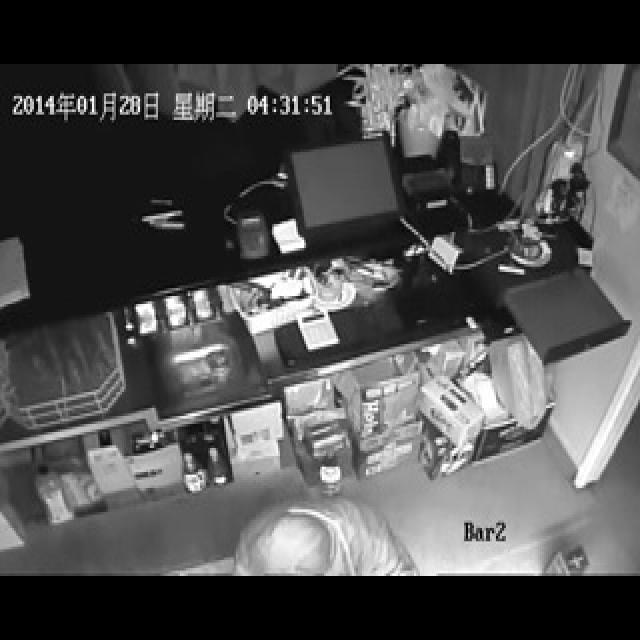thief: (236, 494, 412, 570)
